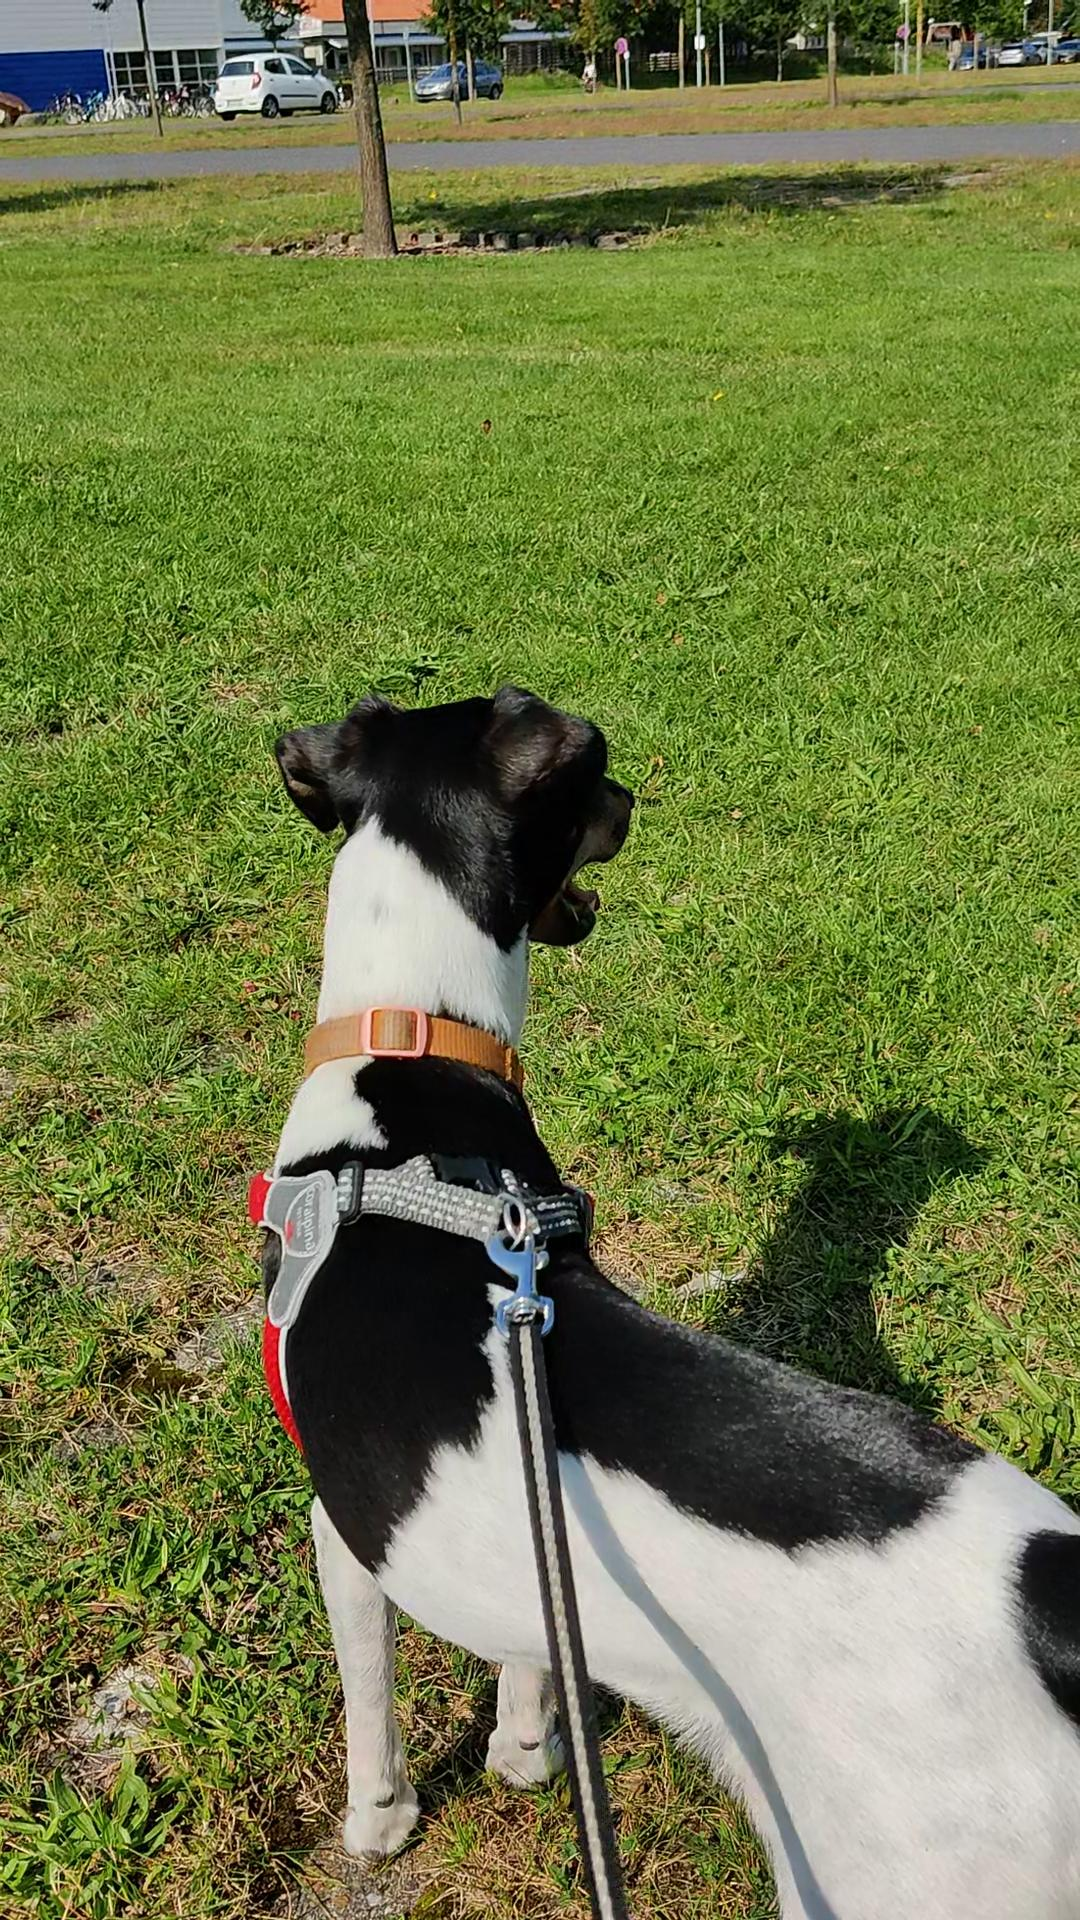Dog: (214, 676, 1079, 1919)
